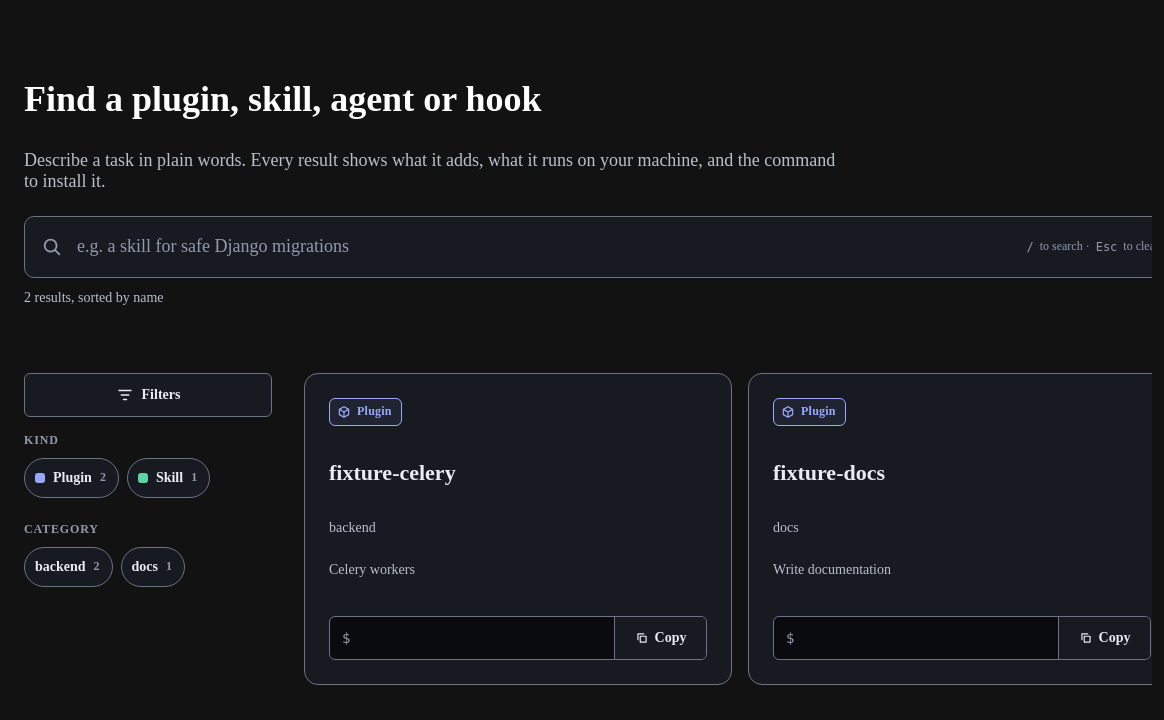
Test: SearchPage › shows at most 5 tags and a prefilled request link when nothing matches, without Clear filters
Type "zzzzqx" into the search field.
click(545, 247); type("zzzzqx")  # box [75,218,1014,276]
Wait 120 ms
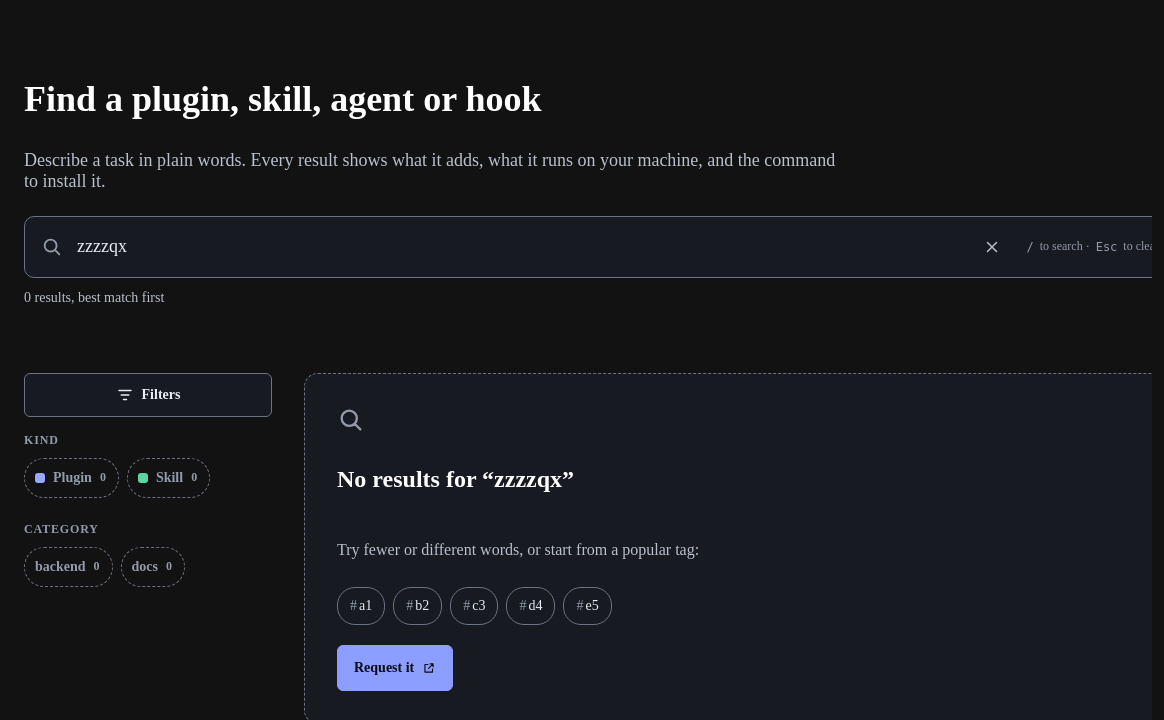
Check: the number of links with class "tag" is 5, box [337,587,385,625]; [393,587,442,625]; [450,587,498,625]; [506,587,555,625]; [563,587,612,625]
